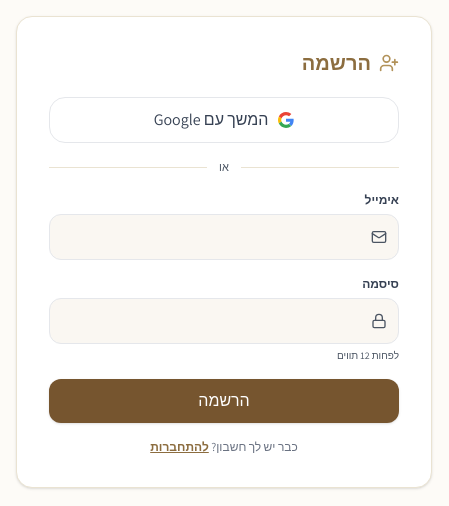
RegisterPage › shows the success message when sign-in after sign-up fails (email confirmation)
Type "a@b.com" into the field labelled "אימייל" at (224, 236), box x1=49 y1=214 x2=399 y2=260
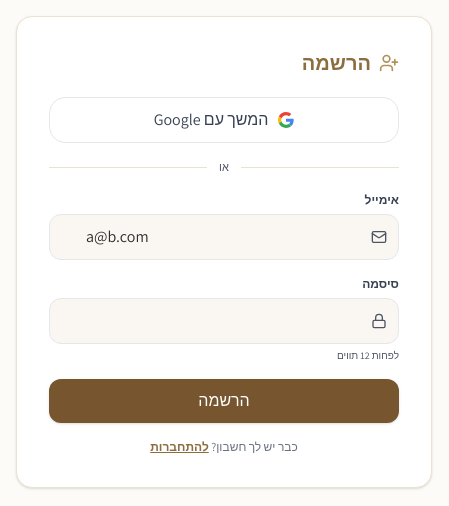
Type "StrongPass123!" into the password field labelled "סיסמה" at (224, 320), box x1=49 y1=298 x2=399 y2=344
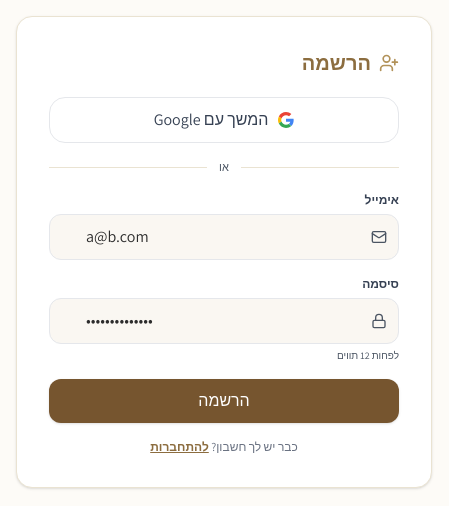
Click the button "הרשמה" at (224, 400), box x1=49 y1=378 x2=399 y2=422
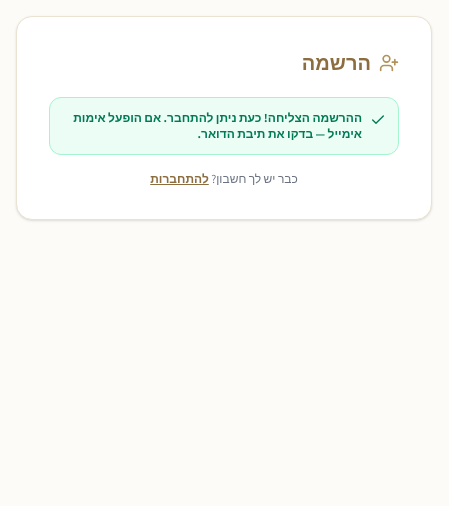
Check: the text "ההרשמה הצליחה! כעת ניתן להתחבר. אם הופעל אימות אימייל — בדקו את תיבת הדואר." is shown, box x1=49 y1=97 x2=399 y2=155
